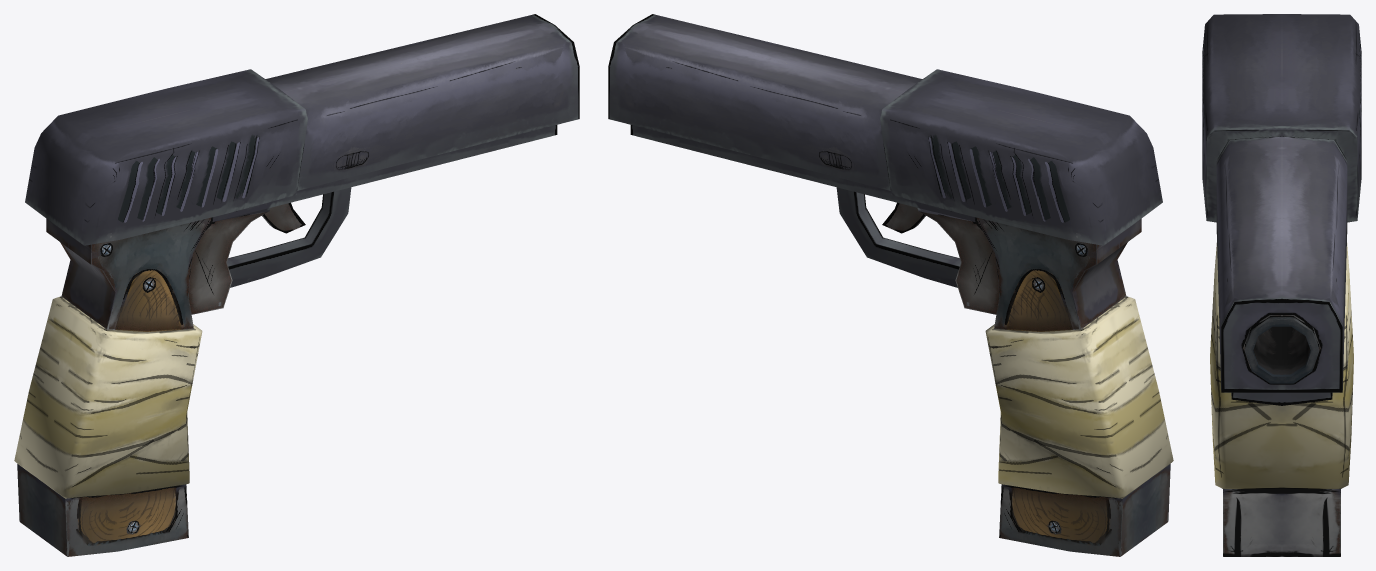
Rendered from pistolaZadkielSalvado.fbx.
3 renders of one model, left to right at view 1: azimuth 30°, elevation 25°; view 2: azimuth 150°, elevation 25°; view 3: azimuth 270°, elevation 25°, orthographic. The views are drawn at different scales.
Parts seen in each view (by area): view 1: Plane; view 2: Plane; view 3: Plane.
Boxes of the visible parts, x1,y1,x2,y2 form: Plane: (14, 14, 579, 556); Plane: (608, 14, 1173, 556); Plane: (1202, 14, 1361, 556).
Size of the model in its own units: 56.81 by 42.02 by 12.26.
Materials: 1 (1 with a texture image).
